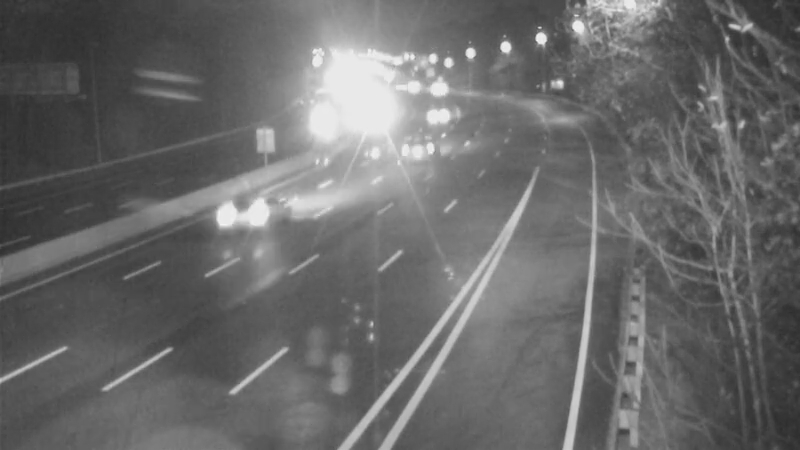vehicle: (191, 173, 271, 253), (410, 90, 460, 140), (399, 123, 449, 173), (301, 99, 351, 149)
